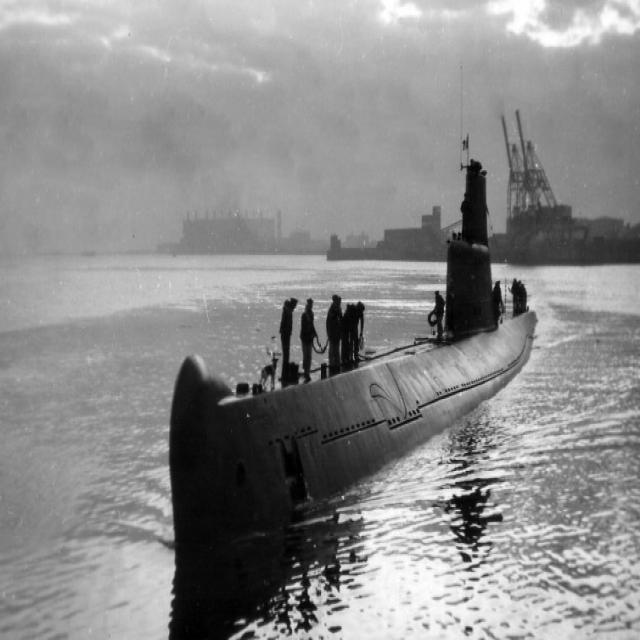submarine: (174, 164, 539, 558)
